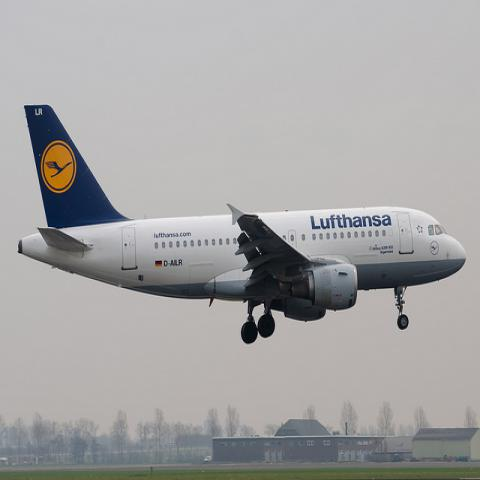car: (203, 456, 212, 463)
